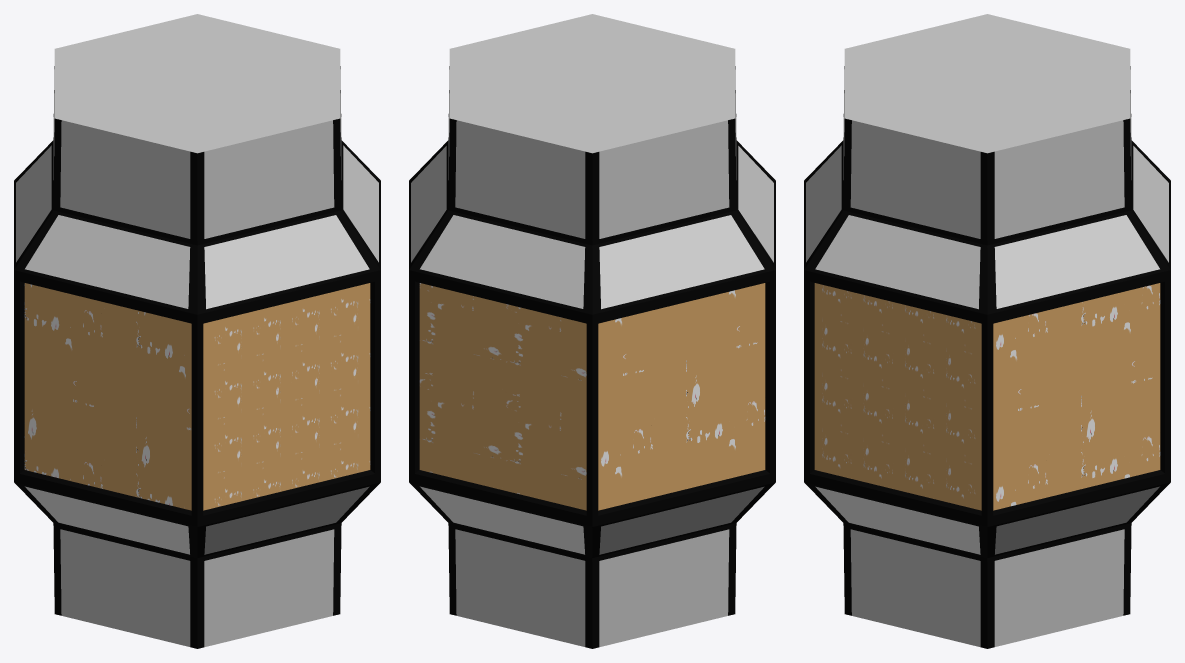
The model's file is main base.fbx.
The picture shows the model from 3 angles, left to right: view 1: azimuth 30°, elevation 25°; view 2: azimuth 150°, elevation 25°; view 3: azimuth 270°, elevation 25°; orthographic projection.
Visible parts, largest first — view 1: Cylinder; view 2: Cylinder; view 3: Cylinder.
Boxes of the visible parts, left/top/right/bottom form: Cylinder: left=14, top=14, right=380, bottom=648; Cylinder: left=409, top=14, right=775, bottom=648; Cylinder: left=804, top=14, right=1170, bottom=648.
Size of the model in its own units: 257 by 332 by 223.
